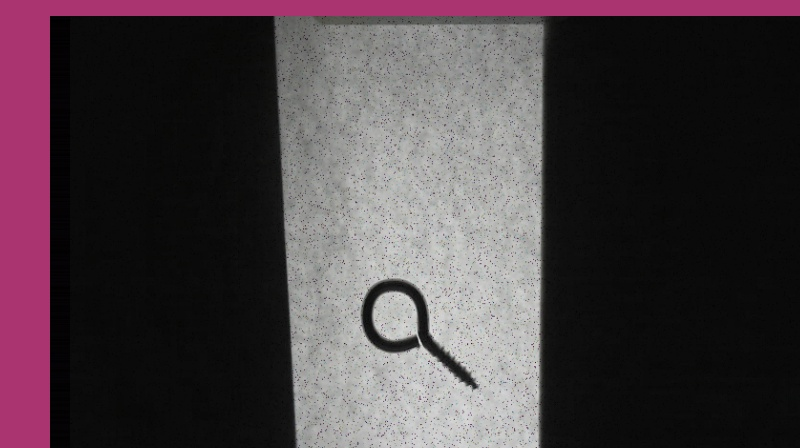O001: (357, 274, 483, 392)
